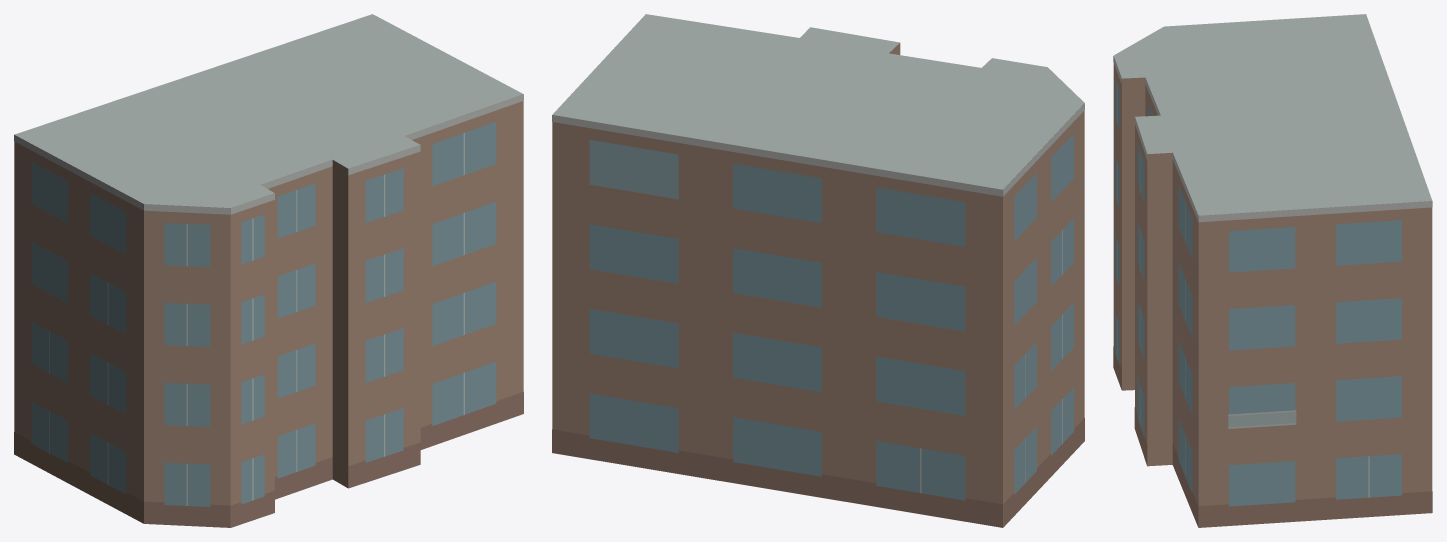
The model's file is survey-upis-32874487.glb.
3 views of the same model, side by side, from view 1: azimuth 30°, elevation 25°; view 2: azimuth 150°, elevation 25°; view 3: azimuth 270°, elevation 25° (orthographic). The views are drawn at different scales.
Parts seen in each view (by area): view 1: survey-upis-32874487.tmp; view 2: survey-upis-32874487.tmp; view 3: survey-upis-32874487.tmp.
Boxes of the visible parts, bbox=[...] form: survey-upis-32874487.tmp: bbox=[14, 14, 523, 527]; survey-upis-32874487.tmp: bbox=[552, 14, 1084, 527]; survey-upis-32874487.tmp: bbox=[1113, 14, 1432, 527].
Bounding box in the file's own units: 16.3 × 11.75 × 10.9.
